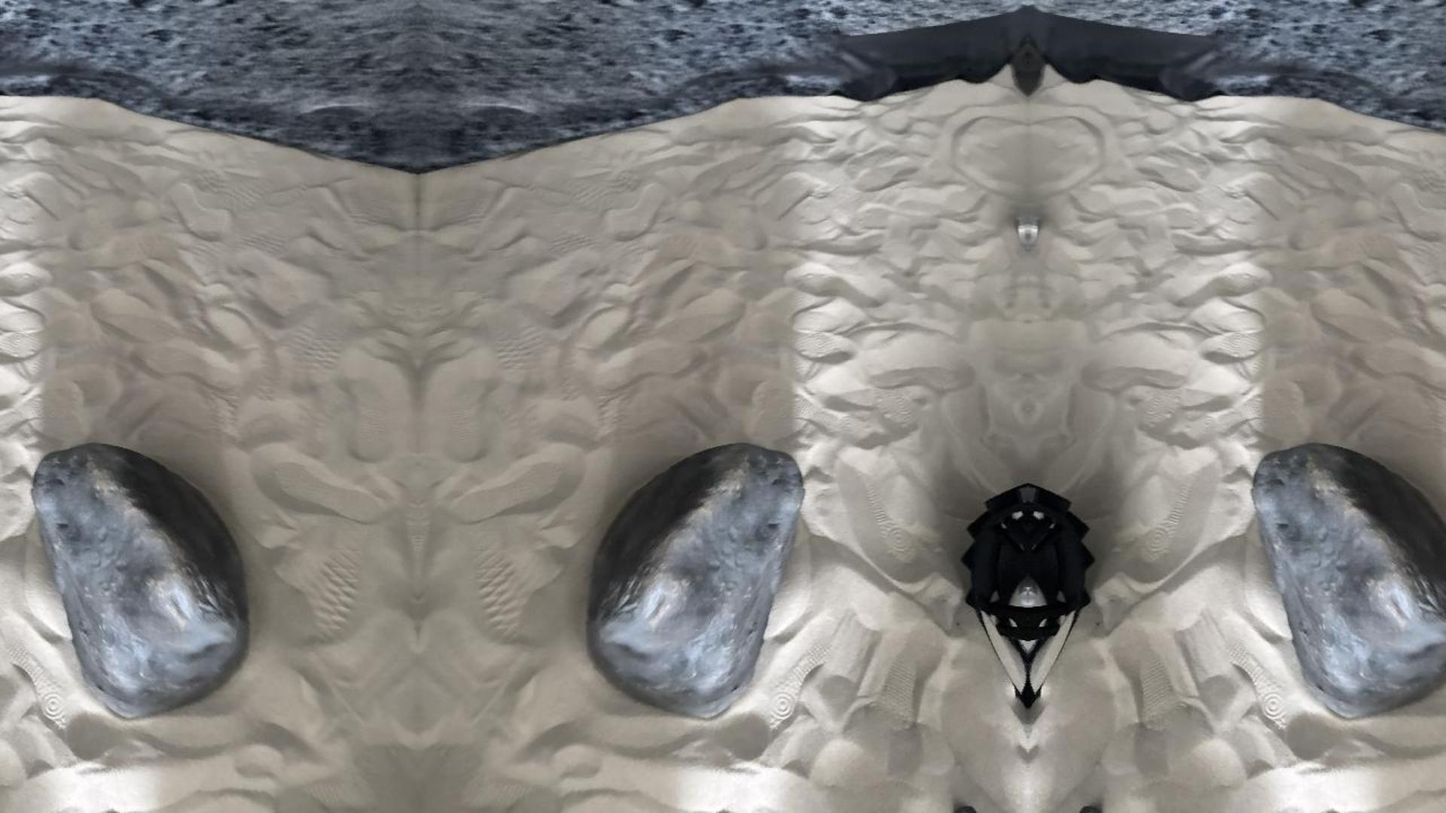rock: (587, 444, 803, 717), (32, 443, 247, 717), (1252, 444, 1445, 717)
